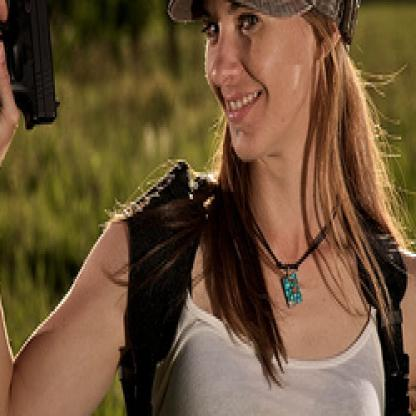gun: (0, 0, 67, 155)
